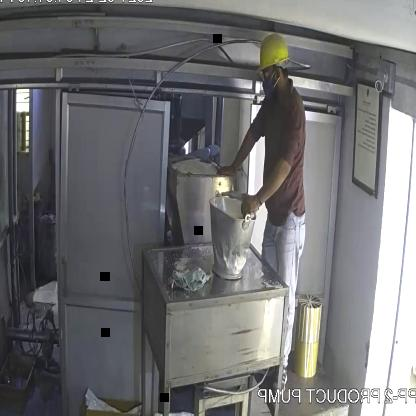helmet: (255, 23, 296, 81)
